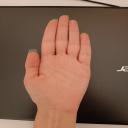OpenPalm: (22, 11, 99, 112)
